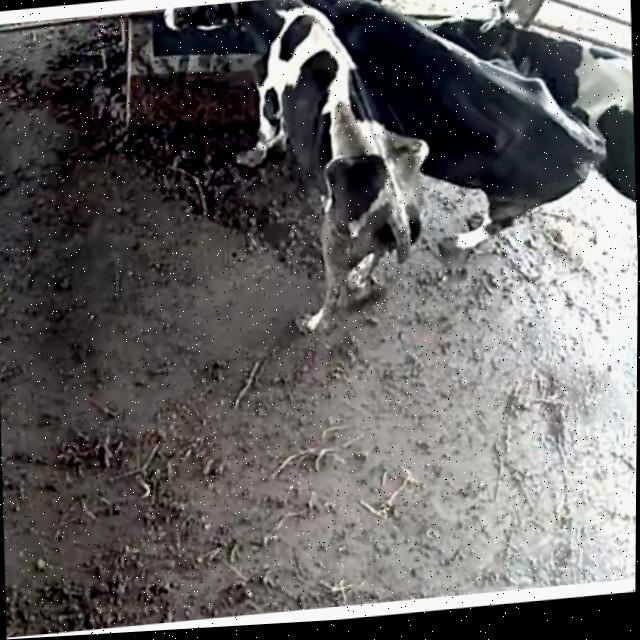drink: (276, 0, 421, 84)
